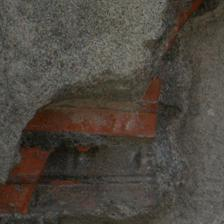Crack: (3, 30, 148, 153)
